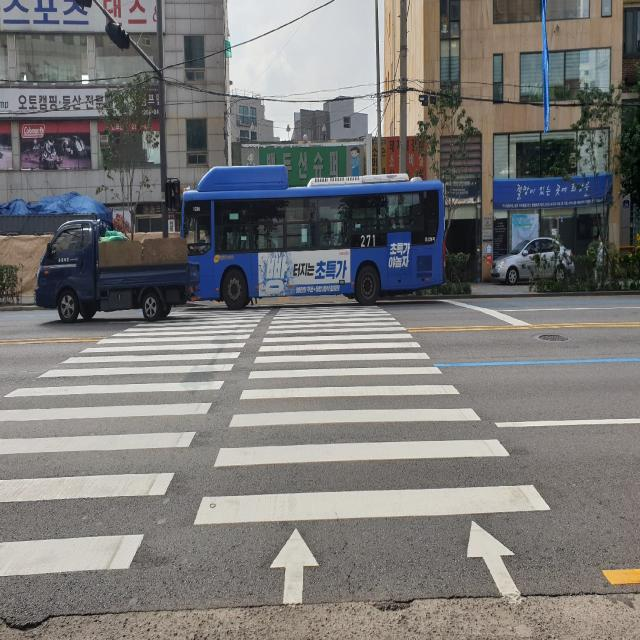횡단보도: (0, 306, 551, 608)
